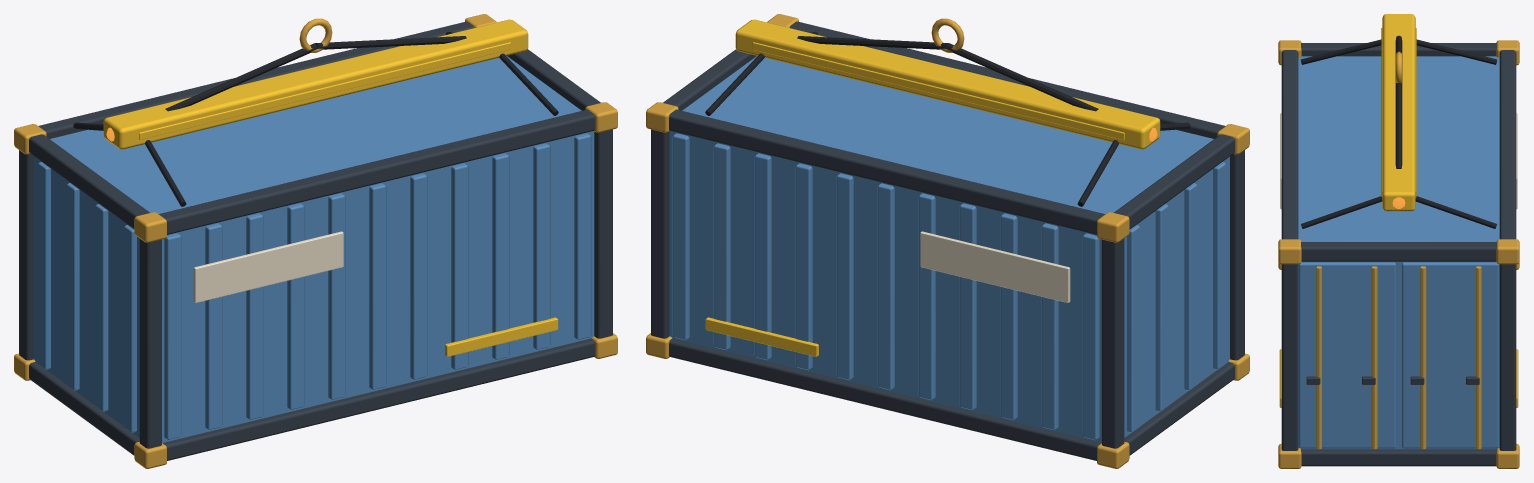
The model's file is hanging_container.glb.
3 views of the same model, side by side, from view 1: azimuth 30°, elevation 25°; view 2: azimuth 150°, elevation 25°; view 3: azimuth 270°, elevation 25° (orthographic). The views are drawn at different scales.
Visible parts, largest first — view 1: hanging_container_body; view 2: hanging_container_body; view 3: hanging_container_body.
Part boxes in pixels (x1,y1,x2,y2): hanging_container_body: (14, 14, 617, 468); hanging_container_body: (646, 14, 1249, 468); hanging_container_body: (1278, 14, 1519, 468).
Bounding box in the file's own units: 5.1 × 3.54 × 2.48.
